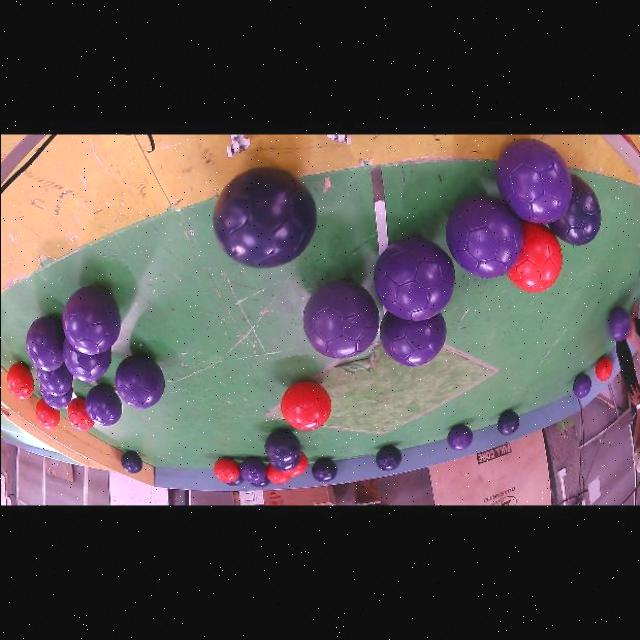B: (212, 166, 316, 267), (548, 173, 601, 244), (264, 428, 300, 463), (375, 444, 401, 469), (310, 457, 336, 481), (496, 409, 518, 435), (269, 453, 300, 469), (119, 450, 141, 472), (250, 476, 269, 486), (225, 475, 243, 485)
P: (374, 236, 454, 318), (495, 137, 571, 222), (445, 195, 523, 277), (303, 280, 379, 357), (61, 285, 119, 353), (379, 311, 446, 365), (114, 355, 163, 408), (25, 315, 64, 370), (61, 338, 110, 380), (85, 383, 121, 424), (36, 362, 73, 395), (39, 384, 72, 408), (607, 306, 629, 340), (238, 457, 265, 482), (446, 424, 472, 449), (572, 373, 590, 397)
R: (507, 219, 562, 291), (279, 380, 331, 429), (6, 361, 33, 398), (67, 396, 94, 429), (34, 398, 59, 428), (282, 450, 308, 476), (212, 457, 238, 482), (265, 463, 290, 484), (594, 356, 612, 380)
